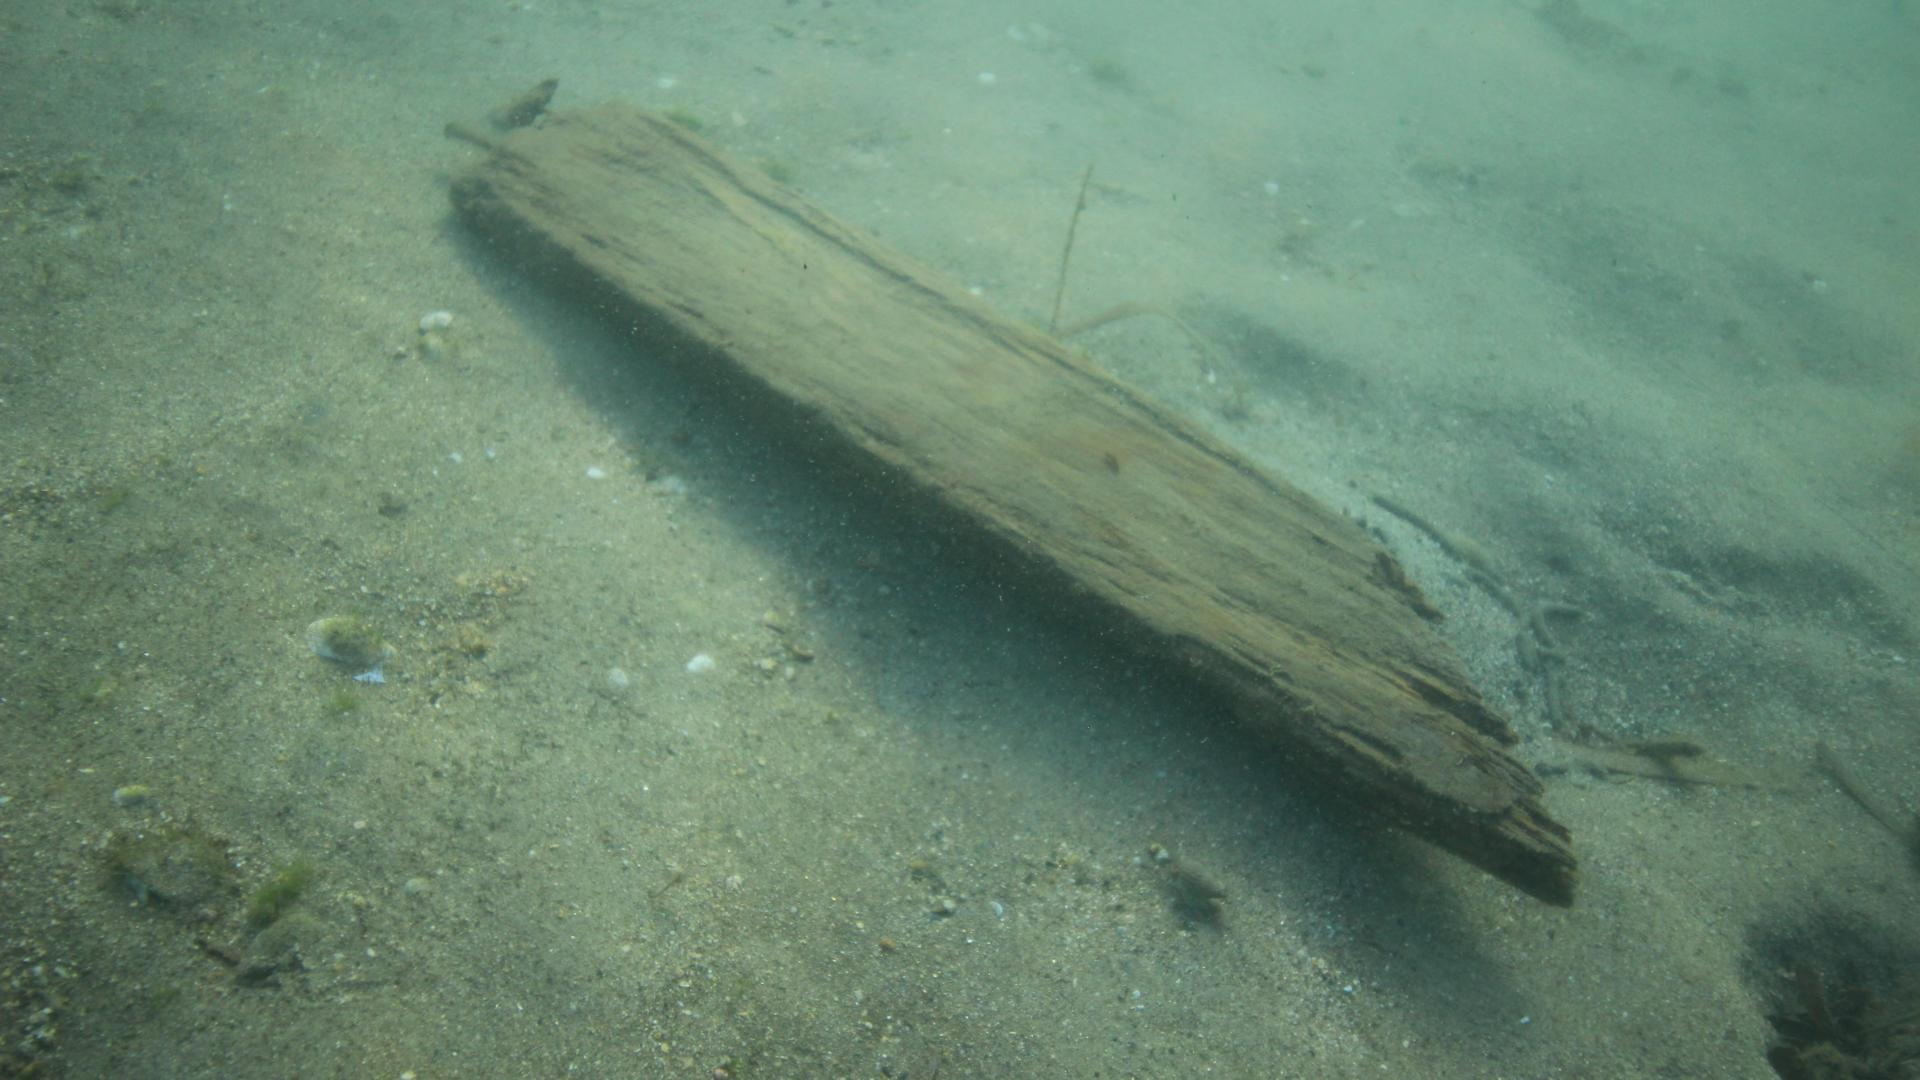wood: (444, 100, 1582, 909)
